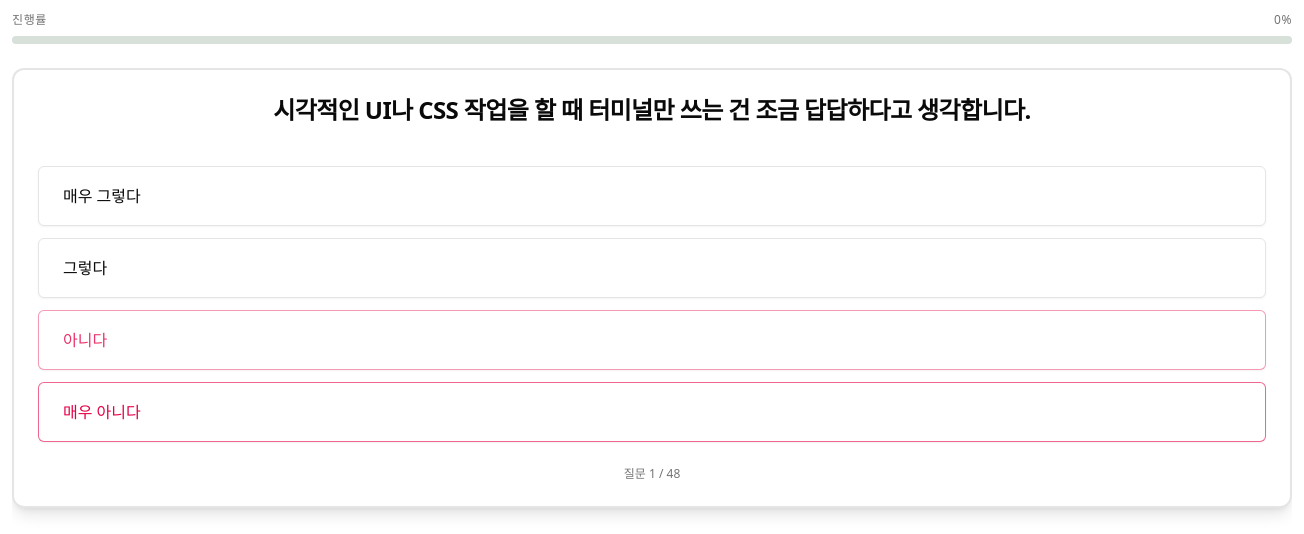
QuizPage › updates progress on answer
Expected: the text "0%" is shown, [1274, 12, 1292, 28]
# Click "Strongly Agree" button (first one is usually value 4, but let's just click any button)
What coordinates should you click on to do the following:
click the button "매우 그렇다"
I would click on:
 (102, 196)
Its box is [38, 166, 1266, 226].
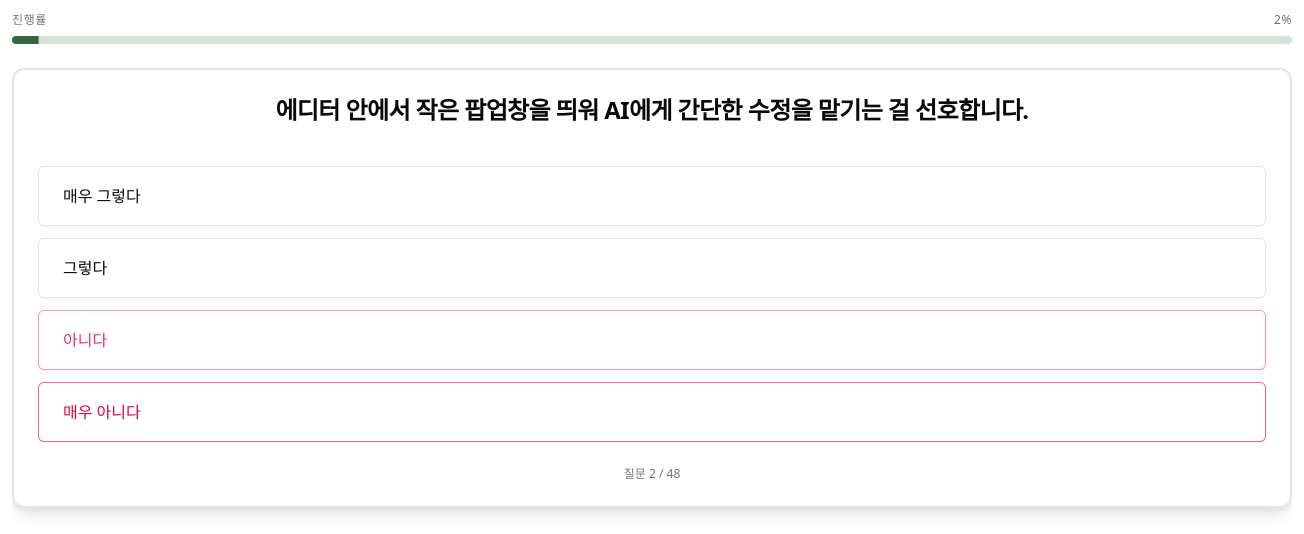
Expected: the text "2%" is shown, [1274, 12, 1292, 28]
